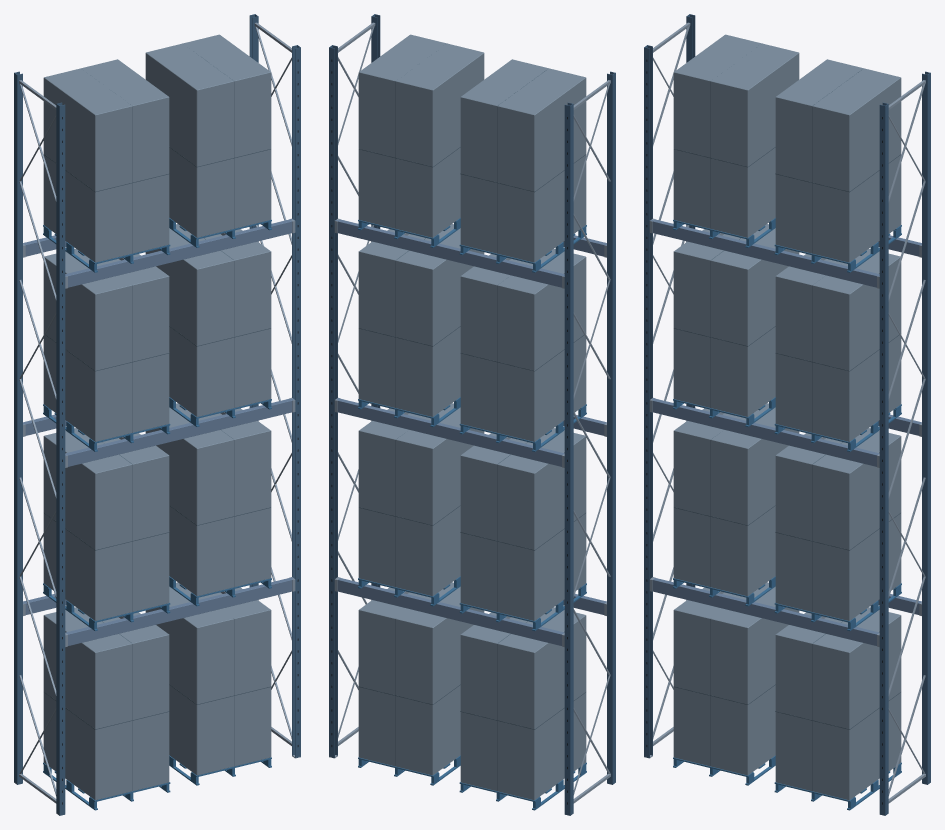
The model's file is SM_GHS_CADRack_A_W32553.fbx.
The picture shows the model from 3 angles, left to right: view 1: azimuth 30°, elevation 25°; view 2: azimuth 150°, elevation 25°; view 3: azimuth 330°, elevation 25°; orthographic projection.
Parts seen in each view (by area): view 1: SM_GHS_CADRack_A_W32553; view 2: SM_GHS_CADRack_A_W32553; view 3: SM_GHS_CADRack_A_W32553.
Boxes of the visible parts, left/top/right/bottom form: SM_GHS_CADRack_A_W32553: left=14, top=14, right=300, bottom=815; SM_GHS_CADRack_A_W32553: left=329, top=14, right=615, bottom=815; SM_GHS_CADRack_A_W32553: left=644, top=14, right=930, bottom=815.
Bounding box in the file's own units: 326 × 122 × 915.
